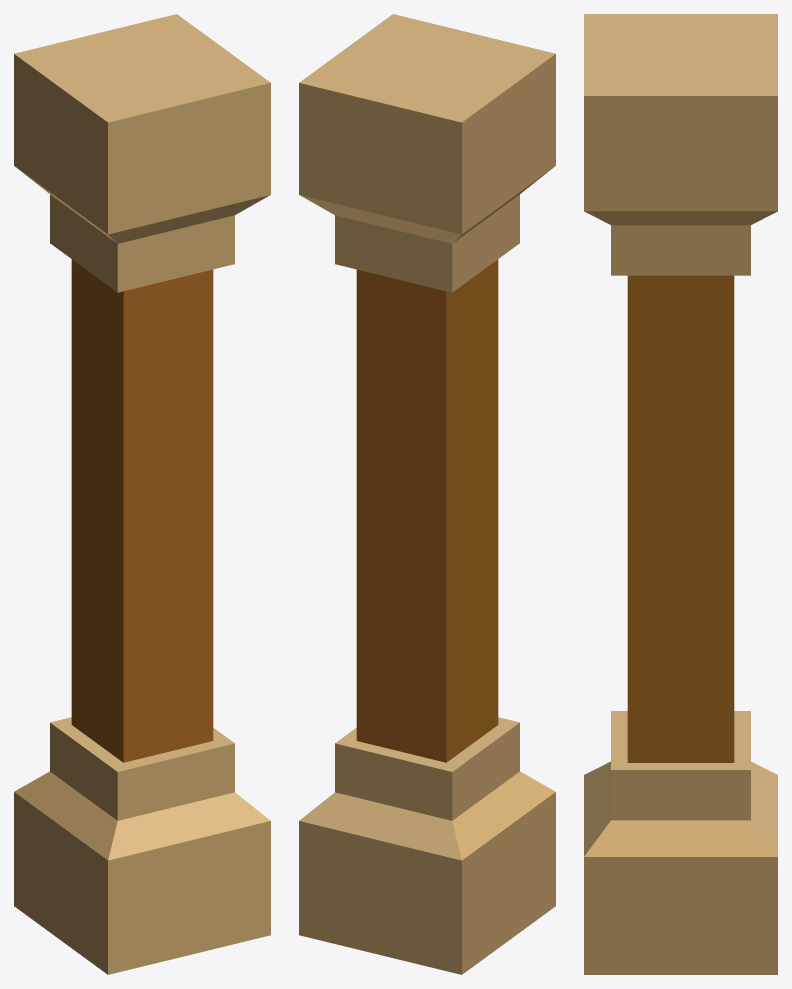
The model's file is ST_Env_Pillar_05.fbx.
3 views of the same model, side by side, from view 1: azimuth 30°, elevation 25°; view 2: azimuth 150°, elevation 25°; view 3: azimuth 270°, elevation 25° (orthographic). The views are drawn at different scales.
Visible parts, largest first — view 1: ST_Env_Pillar_05; view 2: ST_Env_Pillar_05; view 3: ST_Env_Pillar_05.
Part boxes in pixels (x1=…): ST_Env_Pillar_05: x1=14, y1=14, x2=270, y2=974; ST_Env_Pillar_05: x1=299, y1=14, x2=555, y2=974; ST_Env_Pillar_05: x1=584, y1=14, x2=777, y2=974.
Size of the model in its own units: 1 by 5 by 1.
